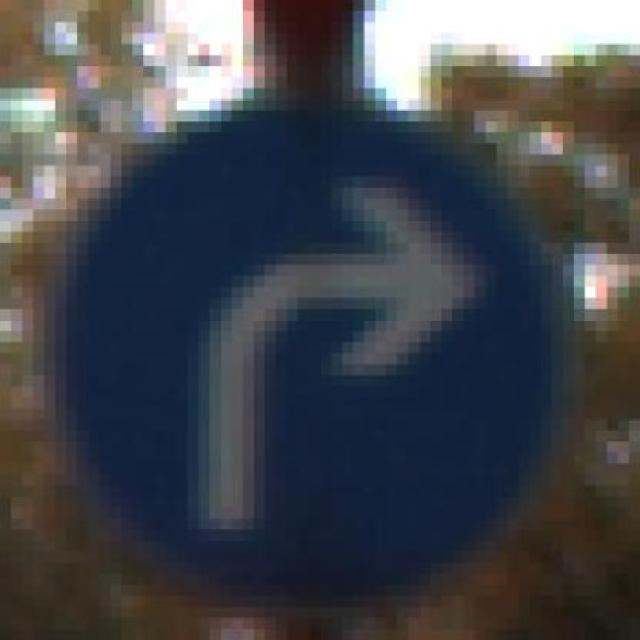Turn right ahead: (33, 55, 618, 607)
